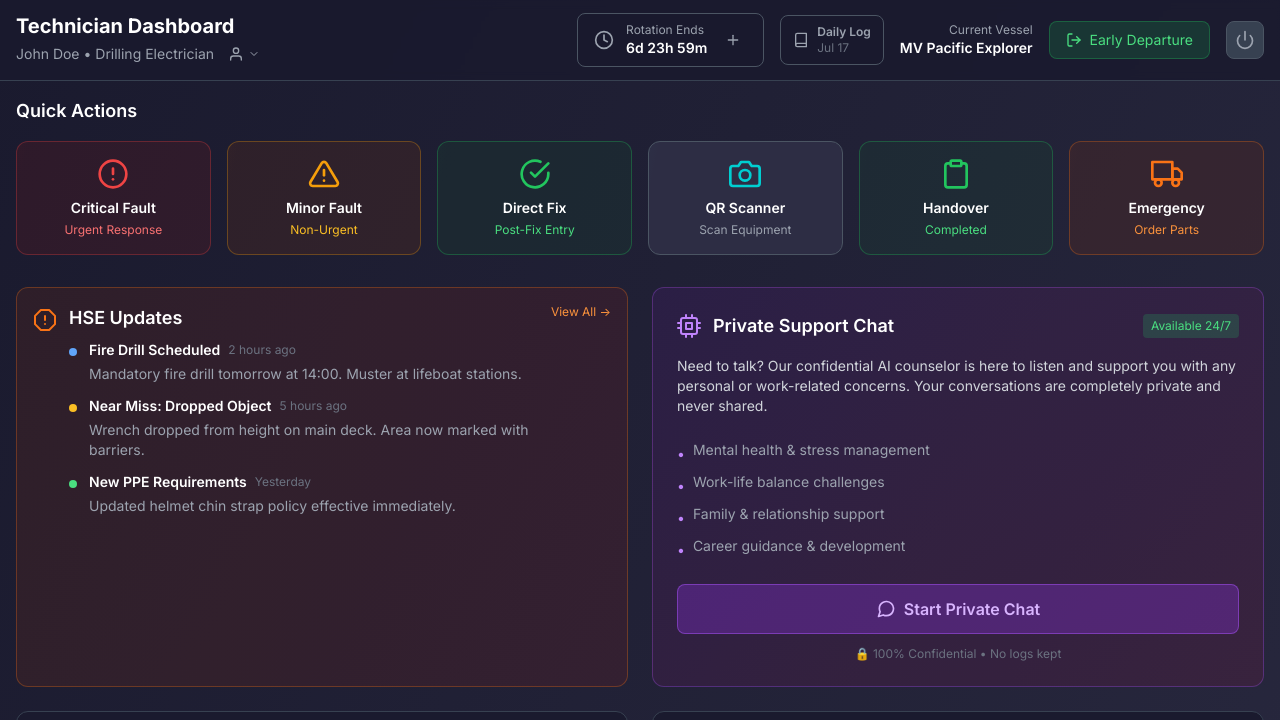
Test: TechnicianDashboard - Early Departure › shows early departure modal when button is clicked
Click the button "Early Departure".
click(1129, 40)  # box [1049,21,1210,59]
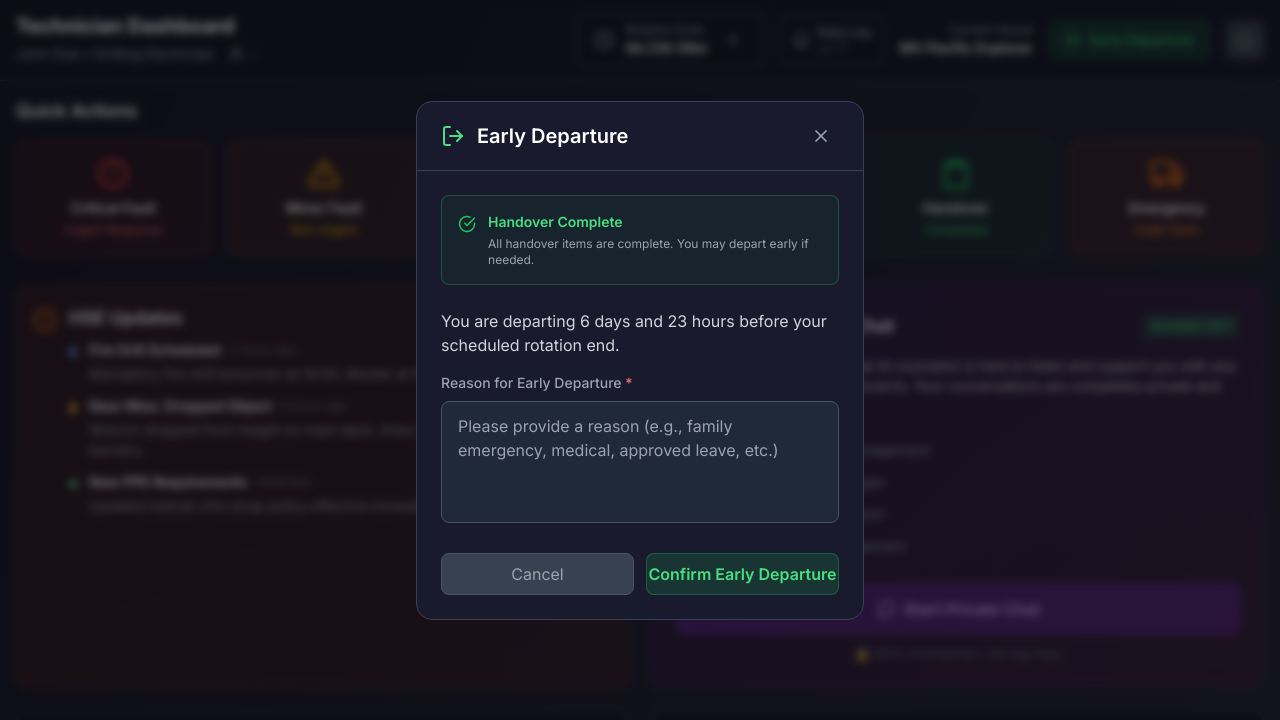
Check: the text "Handover Complete" is shown, box [488,212,623,230]
Check: the text "Reason for Early Departure" is shown, box [441,374,625,390]
